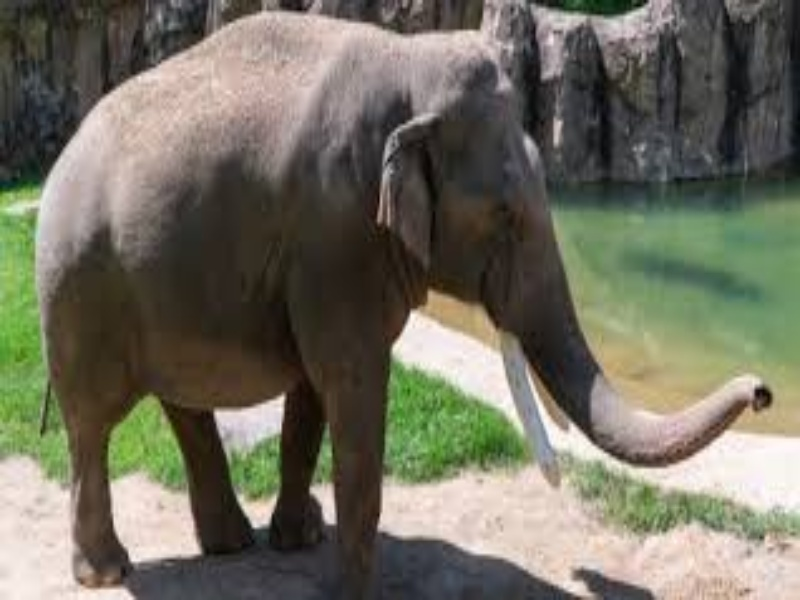elephant: (19, 11, 777, 600)
